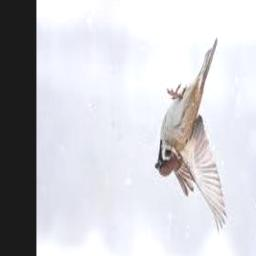Sparrow: (155, 39, 228, 233)
